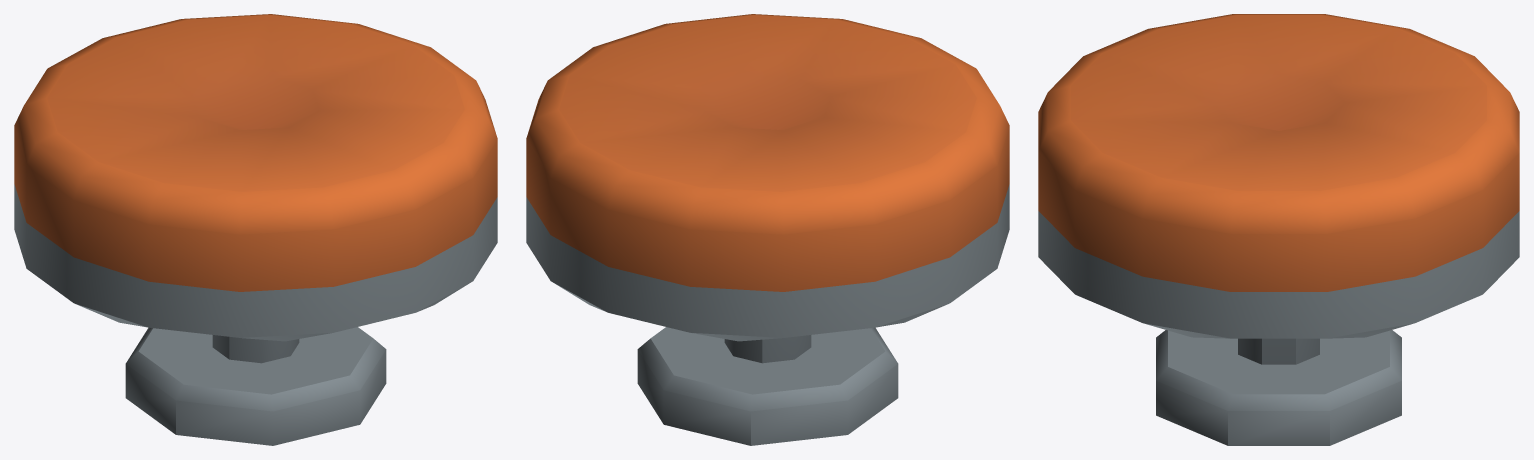
File: kk_stool.glb
The picture shows the model from 3 angles, left to right: view 1: azimuth 30°, elevation 25°; view 2: azimuth 150°, elevation 25°; view 3: azimuth 270°, elevation 25°; orthographic projection.
Parts seen in each view (by area): view 1: chair_stool; view 2: chair_stool; view 3: chair_stool.
Part boxes in pixels (<box>): chair_stool: <box>14,14,497,445</box>; chair_stool: <box>526,14,1009,445</box>; chair_stool: <box>1038,14,1519,445</box>.
Size of the model in its own units: 1.08 by 0.72 by 1.08.
Materials: 1 (1 with a texture image).
